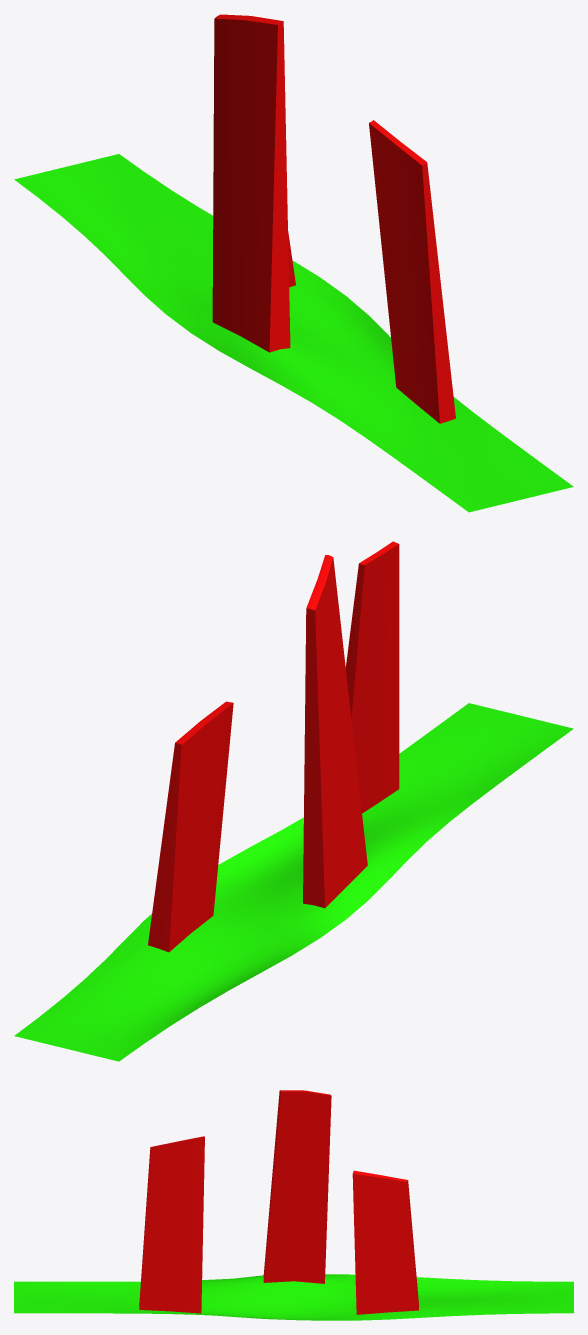
File: Rhino-greenobstacles.FBX
3 renders of one model, top to bottom at view 1: azimuth 30°, elevation 25°; view 2: azimuth 150°, elevation 25°; view 3: azimuth 270°, elevation 25°, orthographic. The views are drawn at different scales.
Visible parts, largest first — view 1: Object007; view 2: Object007; view 3: Object007.
Boxes of the visible parts, bbox=[...] form: Object007: bbox=[14, 14, 573, 512]; Object007: bbox=[14, 541, 573, 1061]; Object007: bbox=[14, 1090, 573, 1320].
Bounding box in the file's own units: 2347 × 4853 × 11970.
